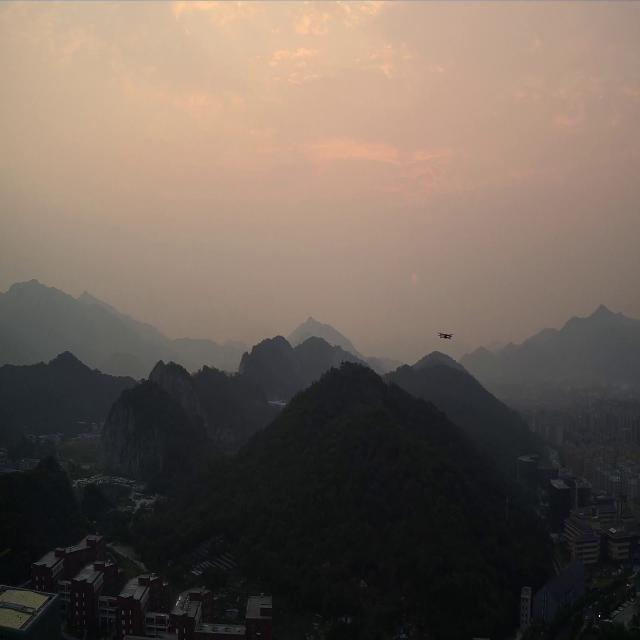drone: (437, 332, 453, 340)
